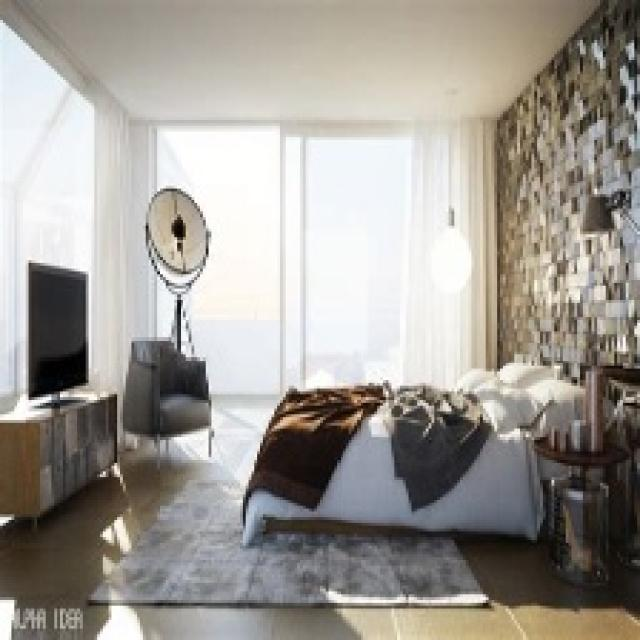Bed: (240, 360, 586, 546)
